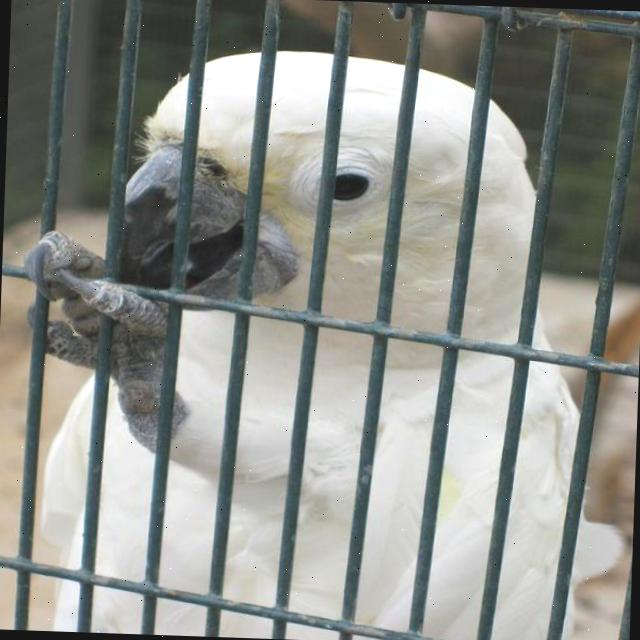Kakatua Putih: (0, 14, 638, 640)
